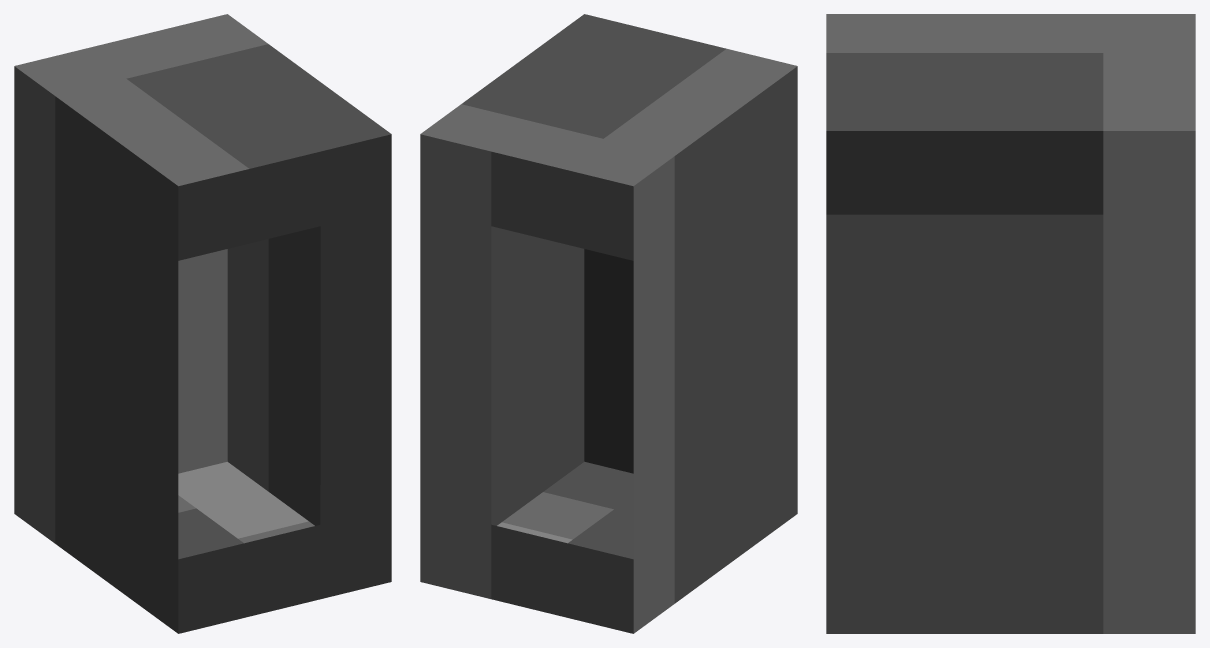
The model's file is L_Leg_MysteryArmor.glb.
3 renders of one model, left to right at view 1: azimuth 30°, elevation 25°; view 2: azimuth 150°, elevation 25°; view 3: azimuth 270°, elevation 25°, orthographic. The views are drawn at different scales.
Visible parts, largest first — view 1: L_Leg_MysteryArmor.001; view 2: L_Leg_MysteryArmor.001; view 3: L_Leg_MysteryArmor.001.
Part boxes in pixels (left/top/right/bottom): L_Leg_MysteryArmor.001: left=14, top=14, right=391, bottom=633; L_Leg_MysteryArmor.001: left=420, top=14, right=797, bottom=633; L_Leg_MysteryArmor.001: left=826, top=14, right=1195, bottom=633.
Size of the model in its own units: 18.75 by 37.6 by 25.
Materials: 1 (1 with a texture image).
